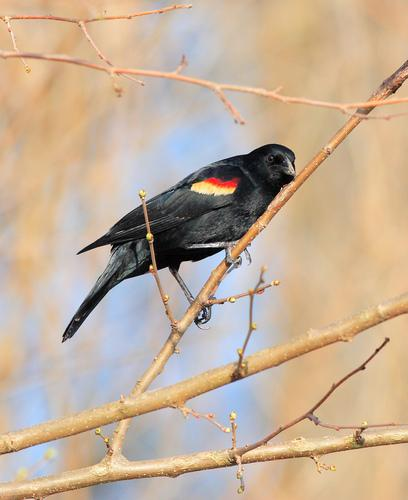010.Red_winged_Blackbird: (59, 141, 312, 341)
